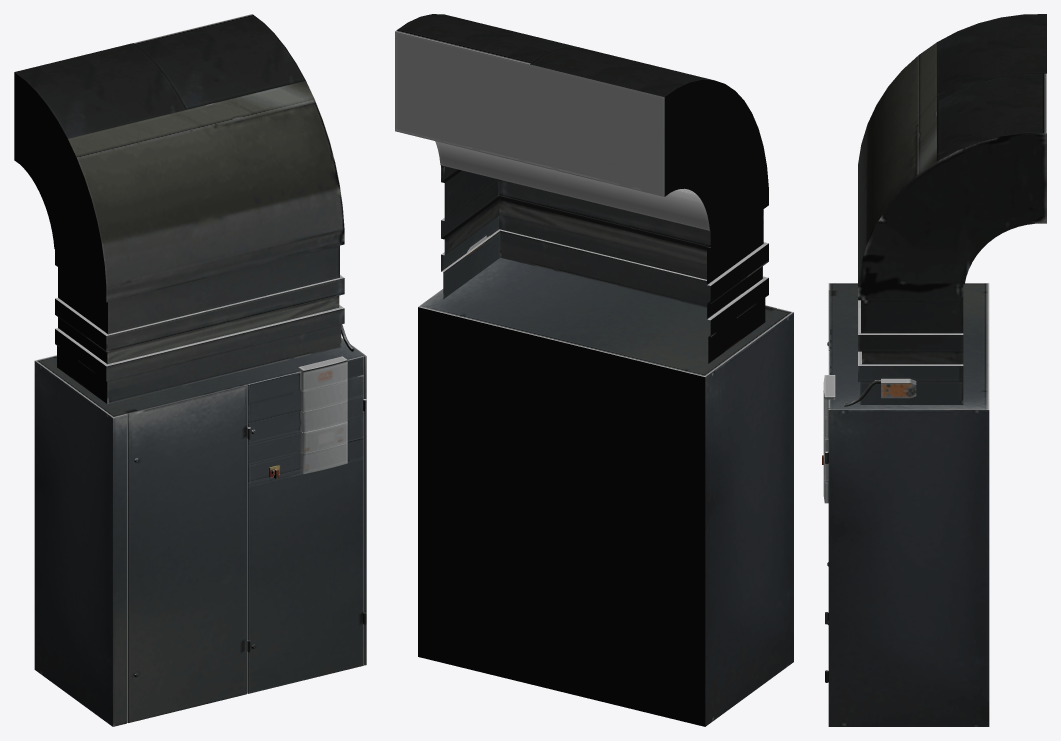
The model's file is set7_14obj.obj.
The picture shows the model from 3 angles, left to right: view 1: azimuth 30°, elevation 25°; view 2: azimuth 150°, elevation 25°; view 3: azimuth 270°, elevation 25°; orthographic projection. The views are drawn at different scales.
Visible parts, largest first — view 1: setnew61_7; view 2: setnew61_7; view 3: setnew61_7.
Boxes of the visible parts, x1,y1,x2,y2 form: setnew61_7: [14, 14, 366, 726]; setnew61_7: [395, 14, 793, 726]; setnew61_7: [822, 14, 1046, 726].
Size of the model in its own units: 1.7 by 3.68 by 1.27.
